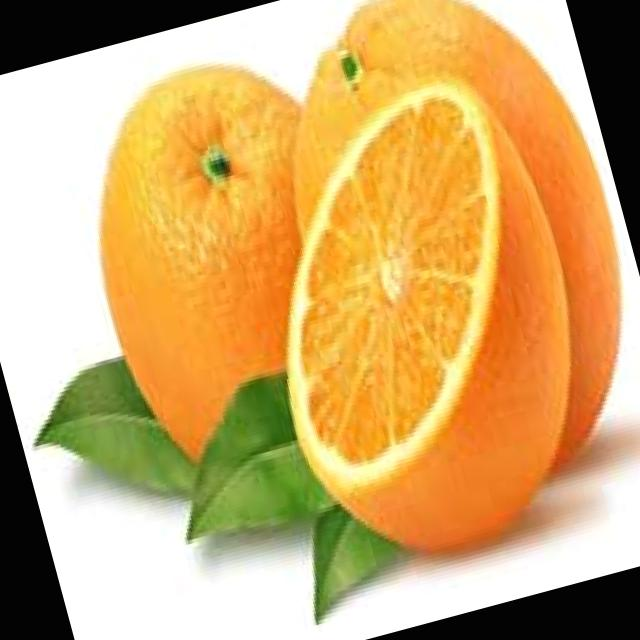orange: (237, 0, 640, 560), (46, 13, 438, 541)
